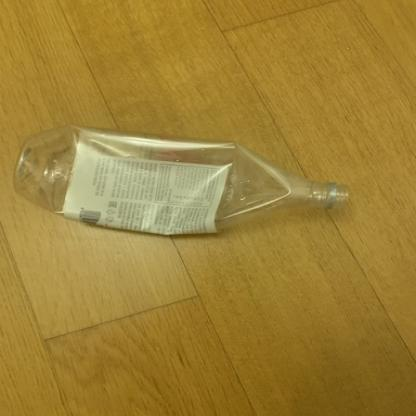trash: (10, 120, 360, 244)
